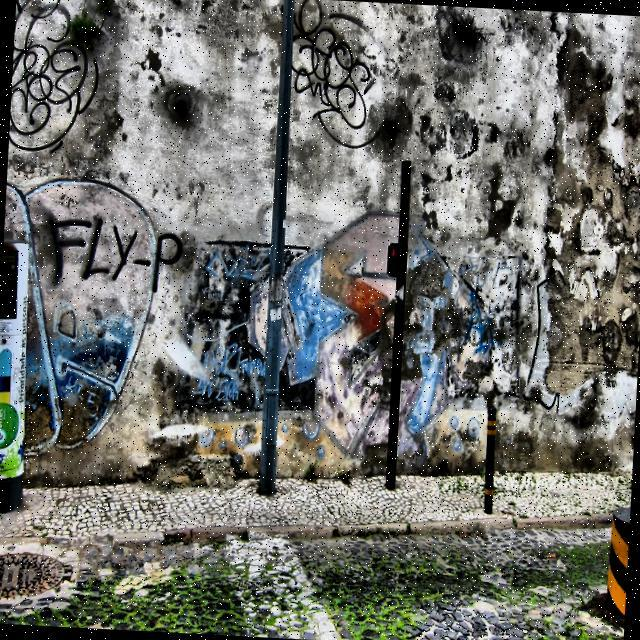red_light: (389, 247, 396, 259)
